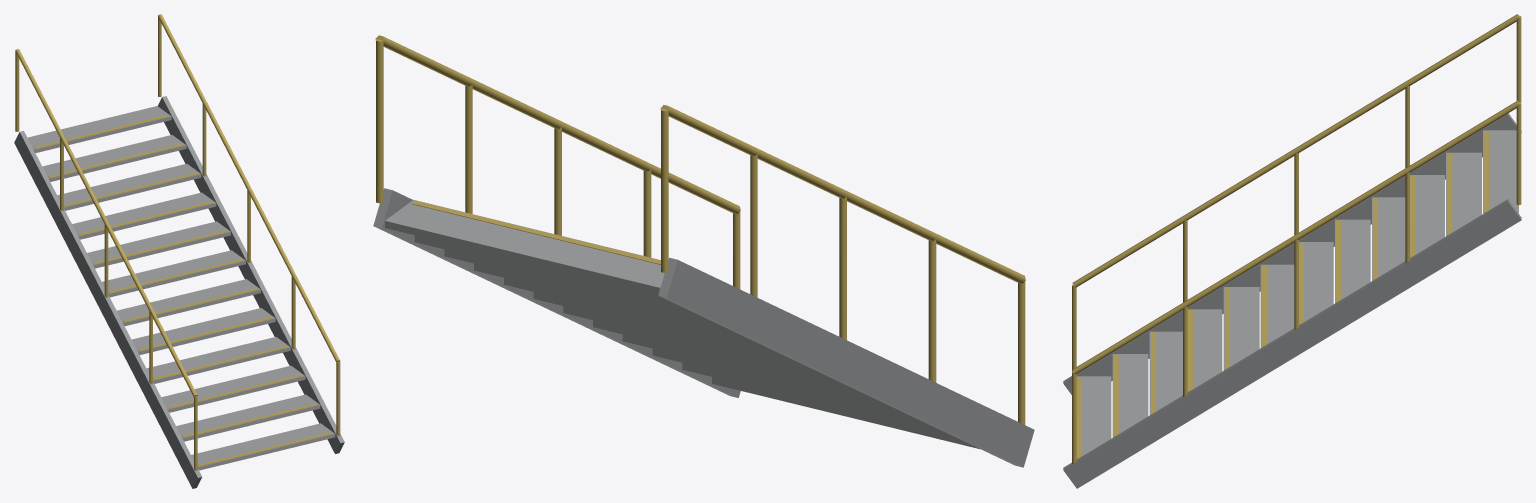
Rendered from stairs_steel.glb.
The picture shows the model from 3 angles, left to right: view 1: azimuth 30°, elevation 25°; view 2: azimuth 150°, elevation 25°; view 3: azimuth 270°, elevation 25°; orthographic projection. The views are drawn at different scales.
Visible parts, largest first — view 1: stairs_steel; view 2: stairs_steel; view 3: stairs_steel.
Part boxes in pixels (<box>): stairs_steel: <box>14,14,344,488</box>; stairs_steel: <box>373,35,1034,467</box>; stairs_steel: <box>1063,14,1521,488</box>.
Bounding box in the file's own units: 1.71 × 3.45 × 3.71.
